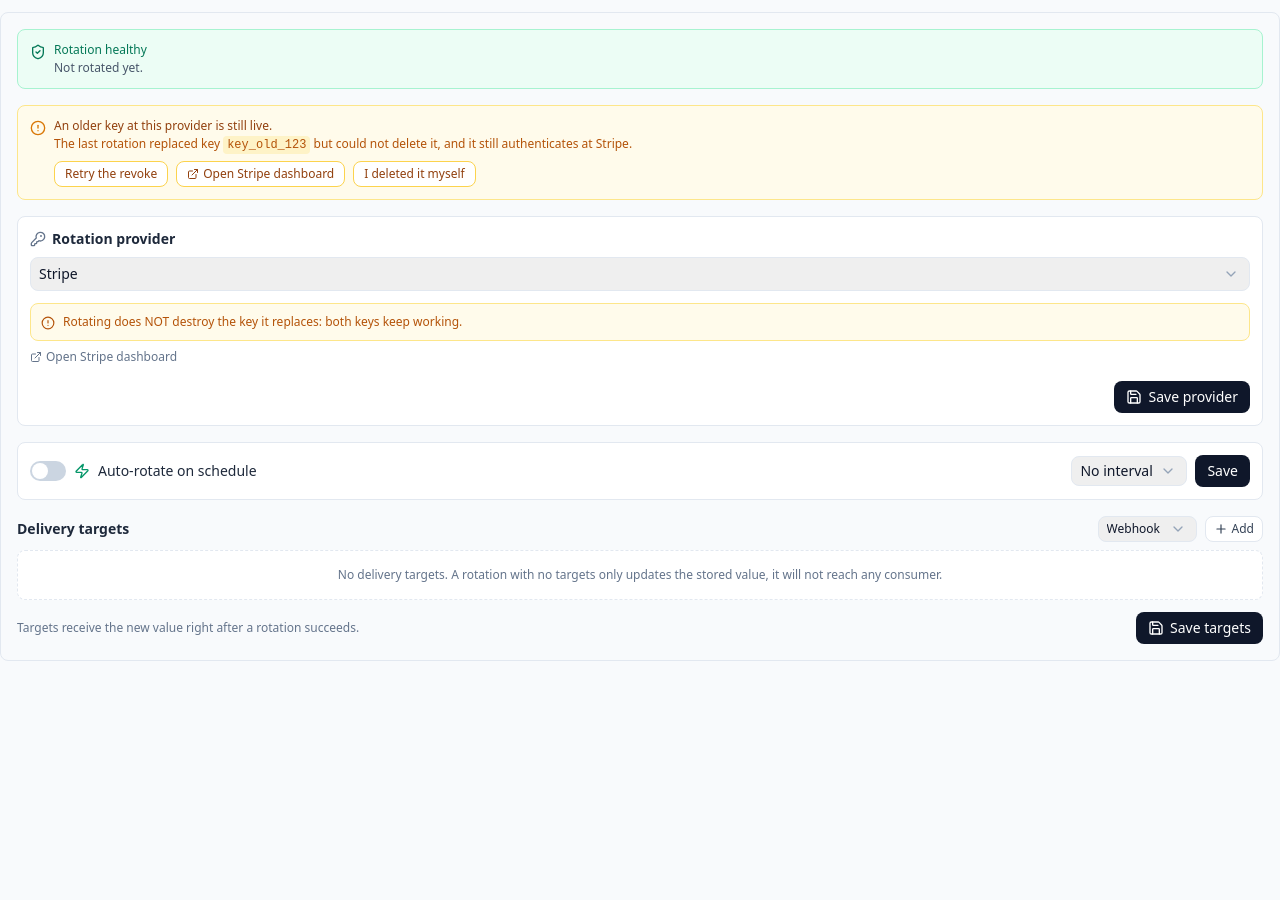
Test: a 200 that means failure must not read as success › sanity check: a genuine revoke (revoked: true) DOES clear the banner and toast success
The image size is (1280, 900).
Expected: the text "An older key at this provider is still live." is shown, left=54, top=117, right=272, bottom=134
Click the button "Retry the revoke".
click(111, 174)  # box left=54, top=161, right=168, bottom=187
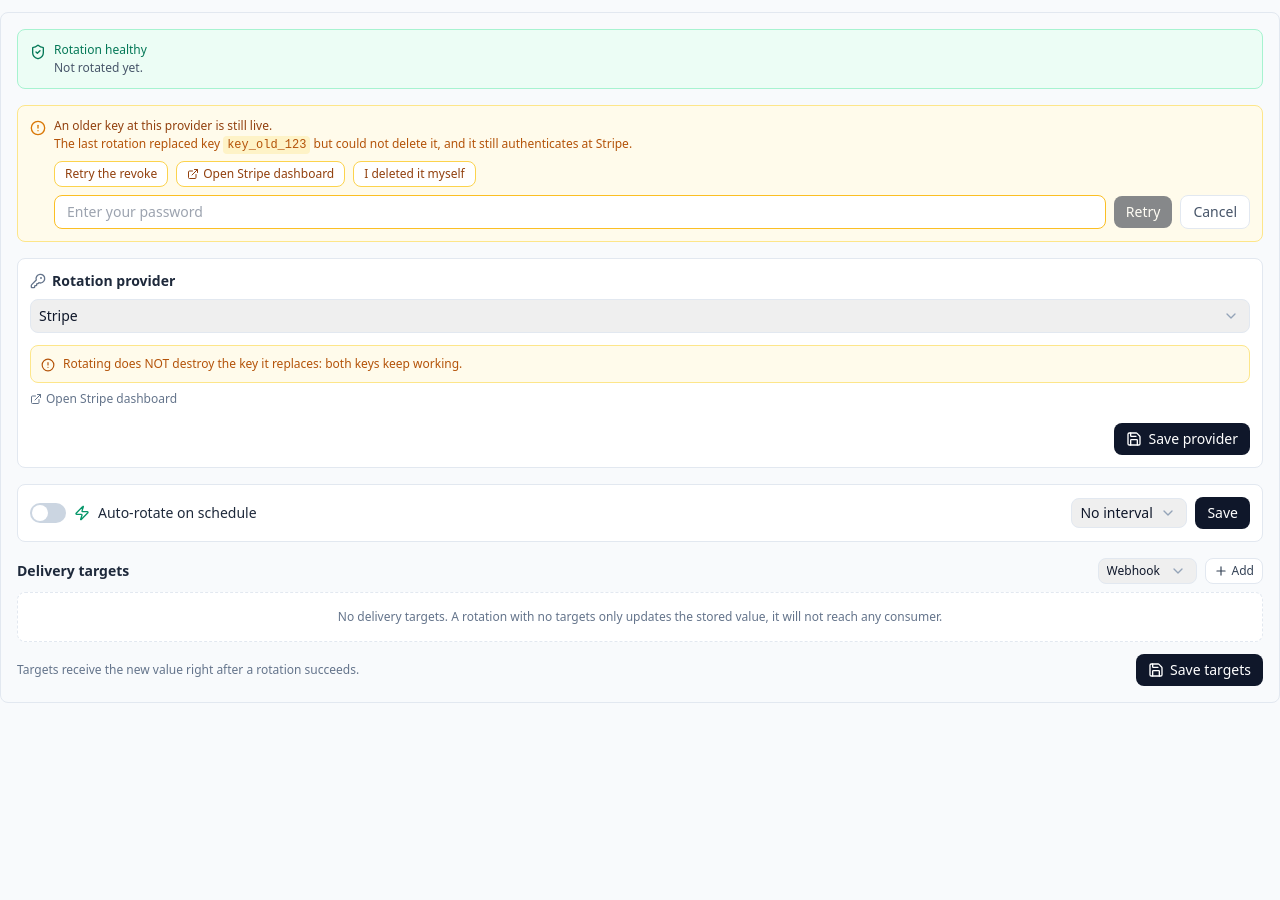
Type "hunter2" into the password field with placeholder "Enter your password".
click(580, 212); type("hunter2")  # box left=54, top=195, right=1106, bottom=229
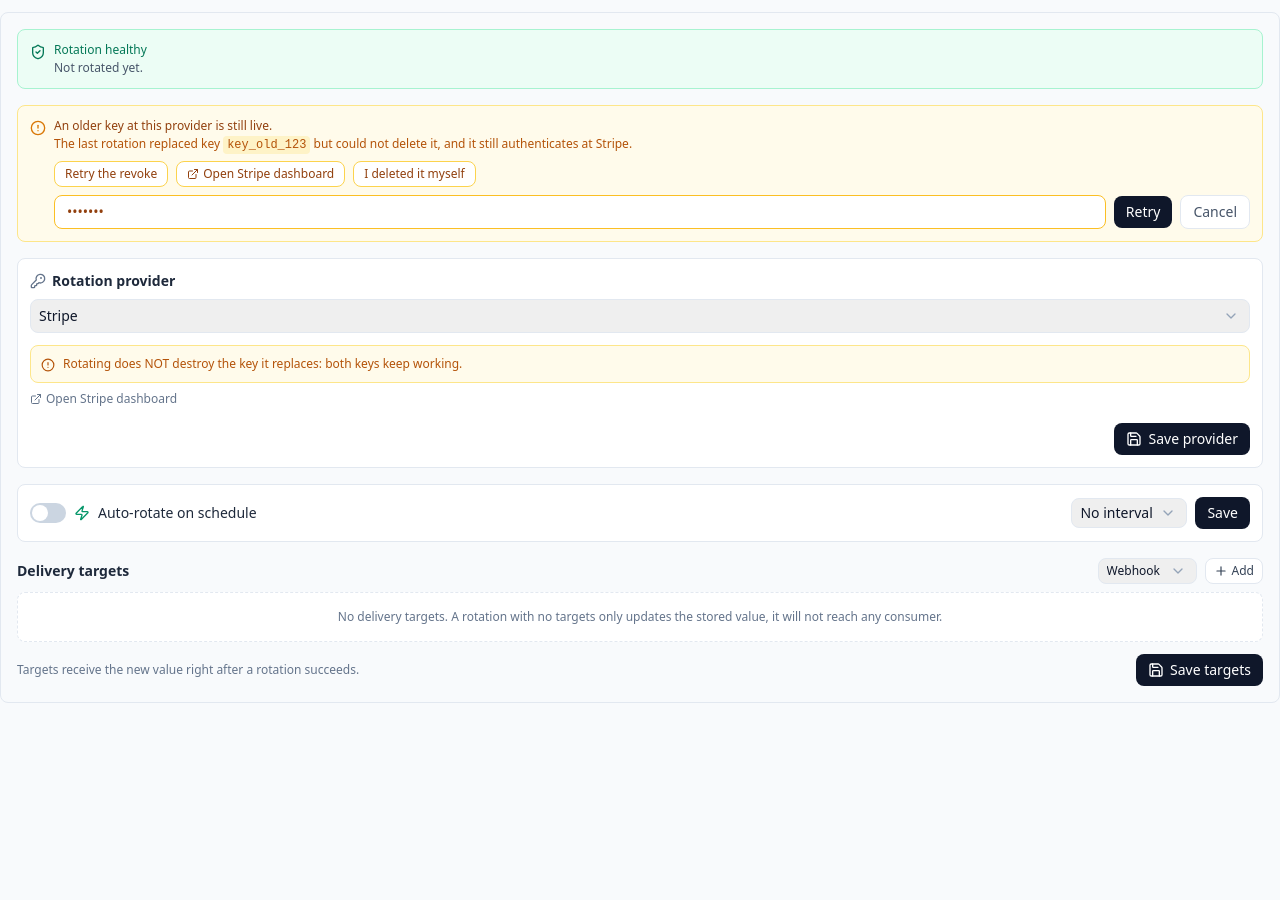
Click the button "Retry".
click(1143, 212)  # box left=1114, top=196, right=1172, bottom=228
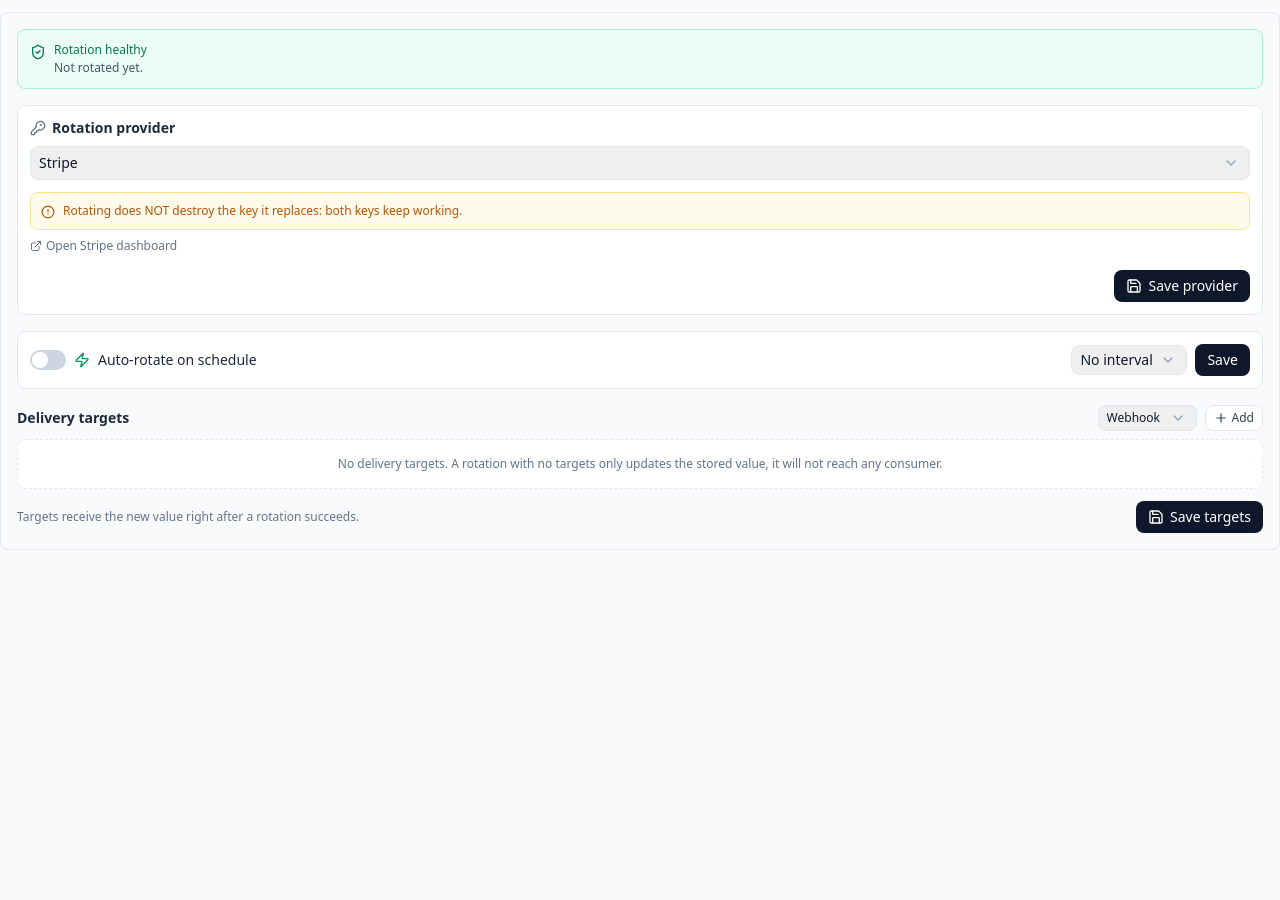
Expected: the text "An older key at this provider is still live." is gone
